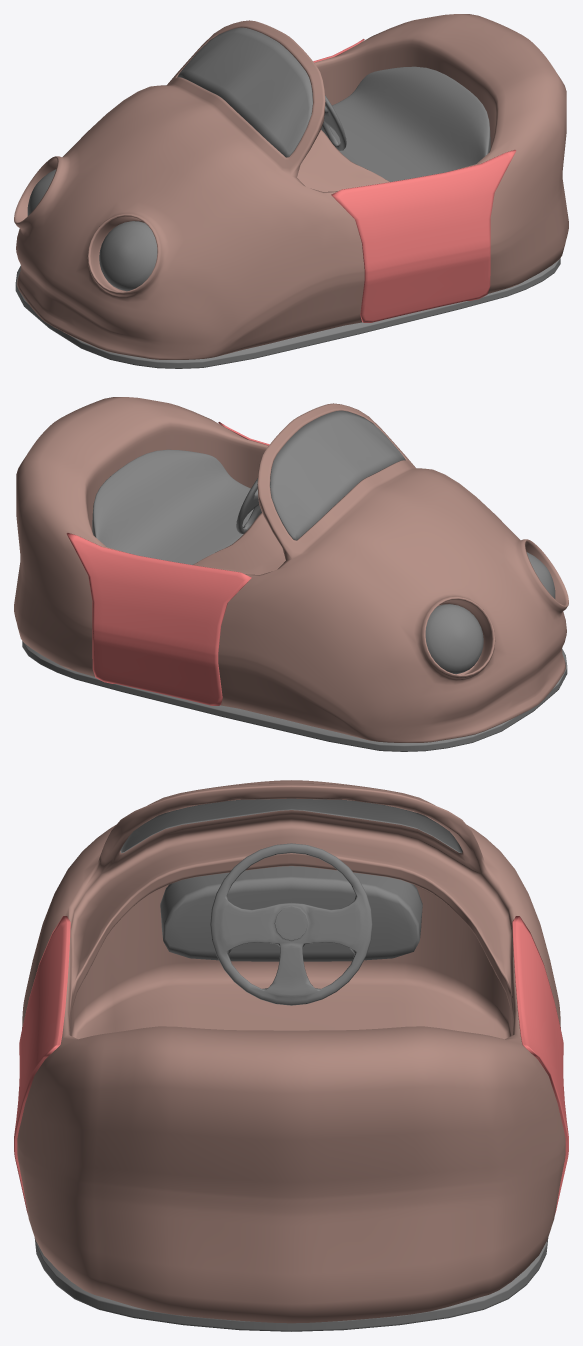
File: bumpcar.fbx
The picture shows the model from 3 angles, top to bottom: view 1: azimuth 30°, elevation 25°; view 2: azimuth 150°, elevation 25°; view 3: azimuth 270°, elevation 25°; orthographic projection. The views are drawn at different scales.
Visible parts, largest first — view 1: Box030, Object006, Box015, Object005, Box013, Object004, Cylinder002, Object008; view 2: Box030, Object007, Box015, Object005, Box013, Object008, Cylinder002, Object004; view 3: Box030, Object003, Cylinder002, Box013, Object007, Object006, Object005.
Boxes of the visible parts, x1,y1,x2,y2 form: Box030: (14, 14, 568, 359); Object006: (331, 150, 516, 322); Box015: (329, 66, 490, 181); Object005: (177, 27, 312, 157); Box013: (15, 258, 560, 368); Object004: (99, 221, 157, 291); Cylinder002: (321, 95, 346, 150); Object008: (27, 169, 56, 215); Box030: (14, 397, 568, 742); Object007: (66, 533, 251, 705); Box015: (92, 449, 253, 564); Object005: (270, 410, 405, 540); Box013: (22, 641, 567, 751); Object008: (425, 604, 483, 674); Cylinder002: (236, 478, 261, 533); Object004: (526, 552, 555, 598); Box030: (17, 780, 565, 1323); Object003: (160, 866, 422, 961); Cylinder002: (210, 843, 372, 1005); Box013: (34, 1238, 548, 1331); Object007: (512, 916, 568, 1214); Object006: (14, 916, 70, 1214); Object005: (120, 798, 462, 853).
Size of the model in its own units: 44.07 by 19.85 by 27.36.
